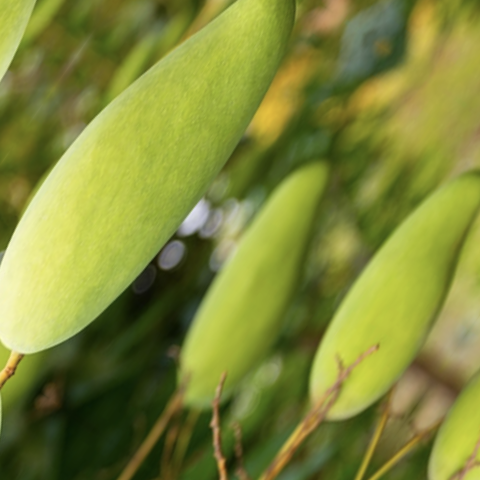mango: (0, 0, 350, 414), (128, 124, 399, 442), (272, 139, 480, 456)
